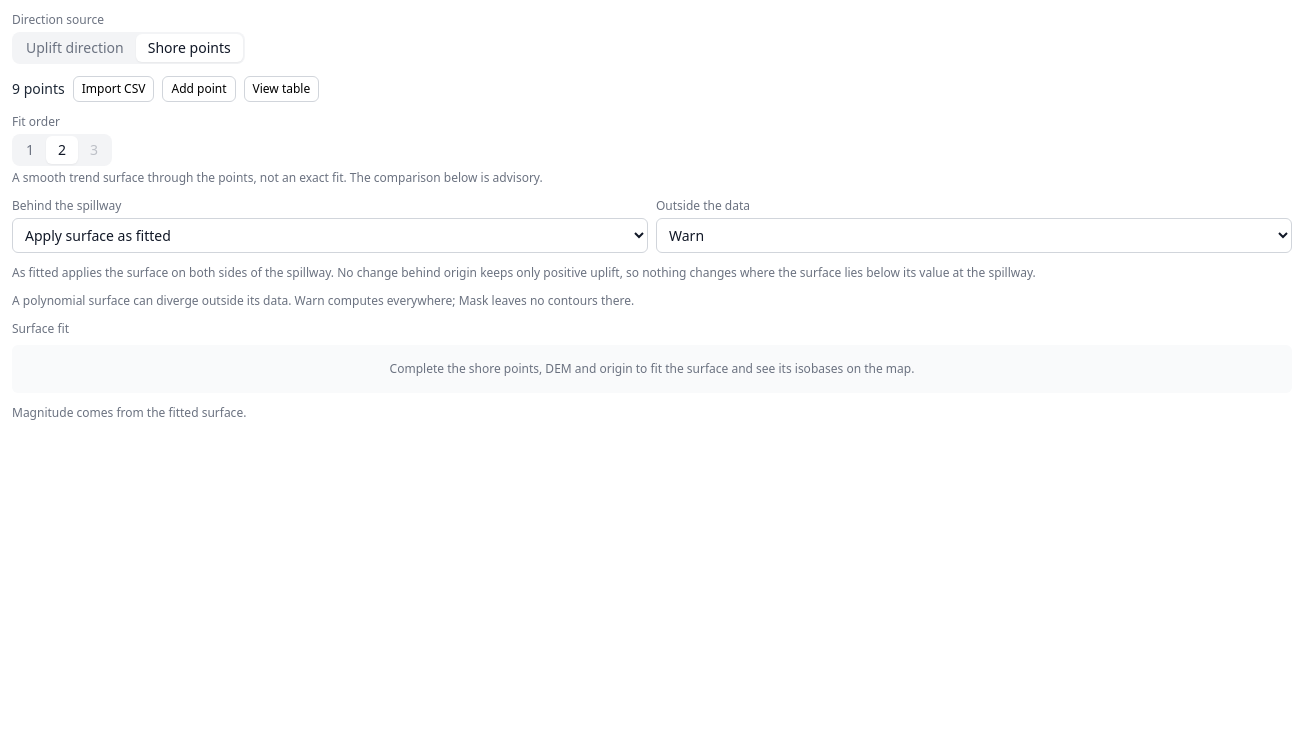
Scenario: the points table › marks an invalid number and can add a blank point
Click the button "View table". click: (281,89)
box: [244,76,319,102]
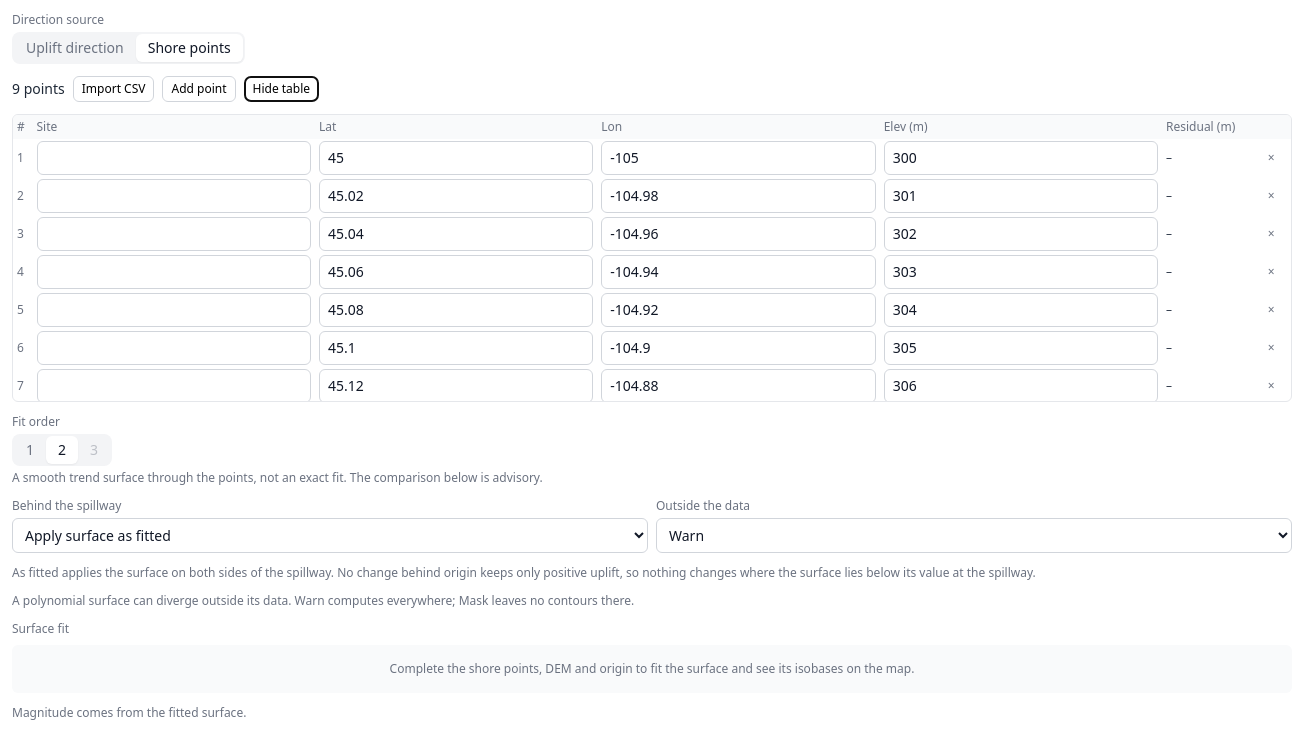
Replace the text in the field named "Point 1 latitude" with "abc". click: (456,158)
box: [319,141,593,175]
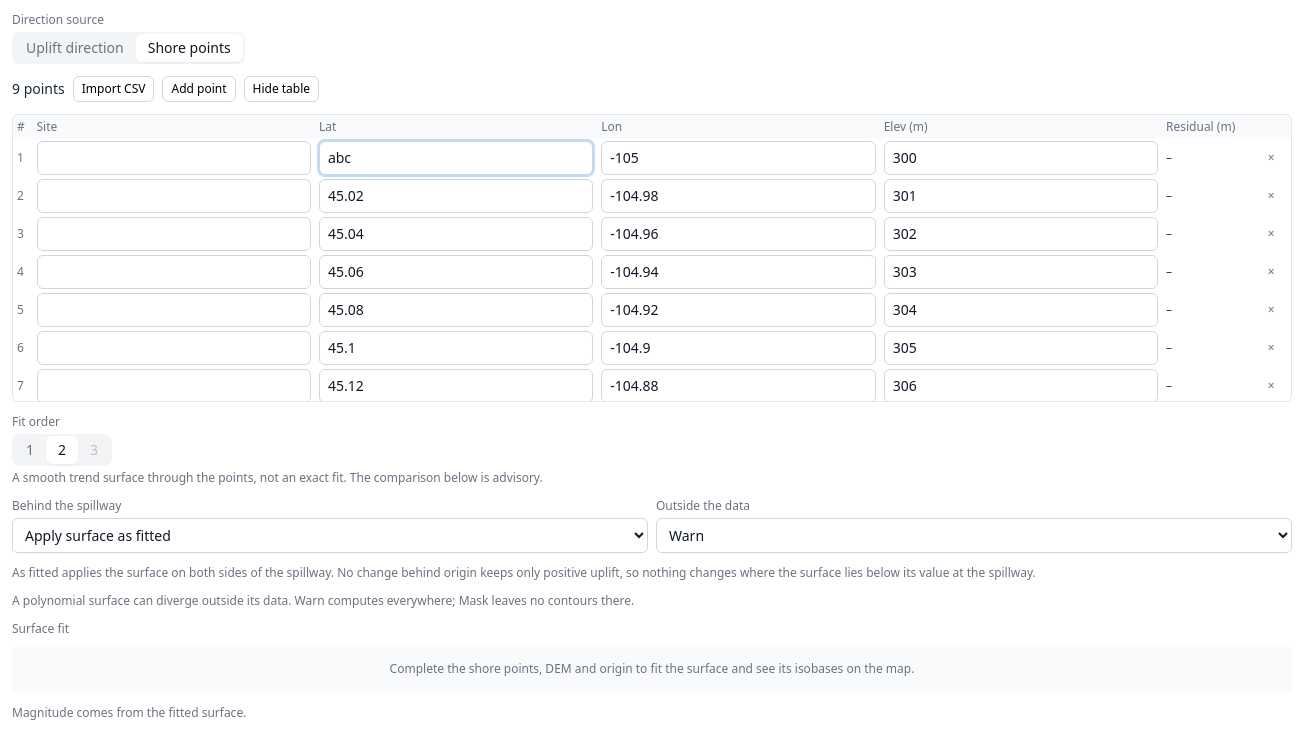
Expected: the field named "Point 1 latitude" is marked as invalid, [319,141,593,175]
Click the button "Add point". click: (199,89)
box: [162,76,236,102]
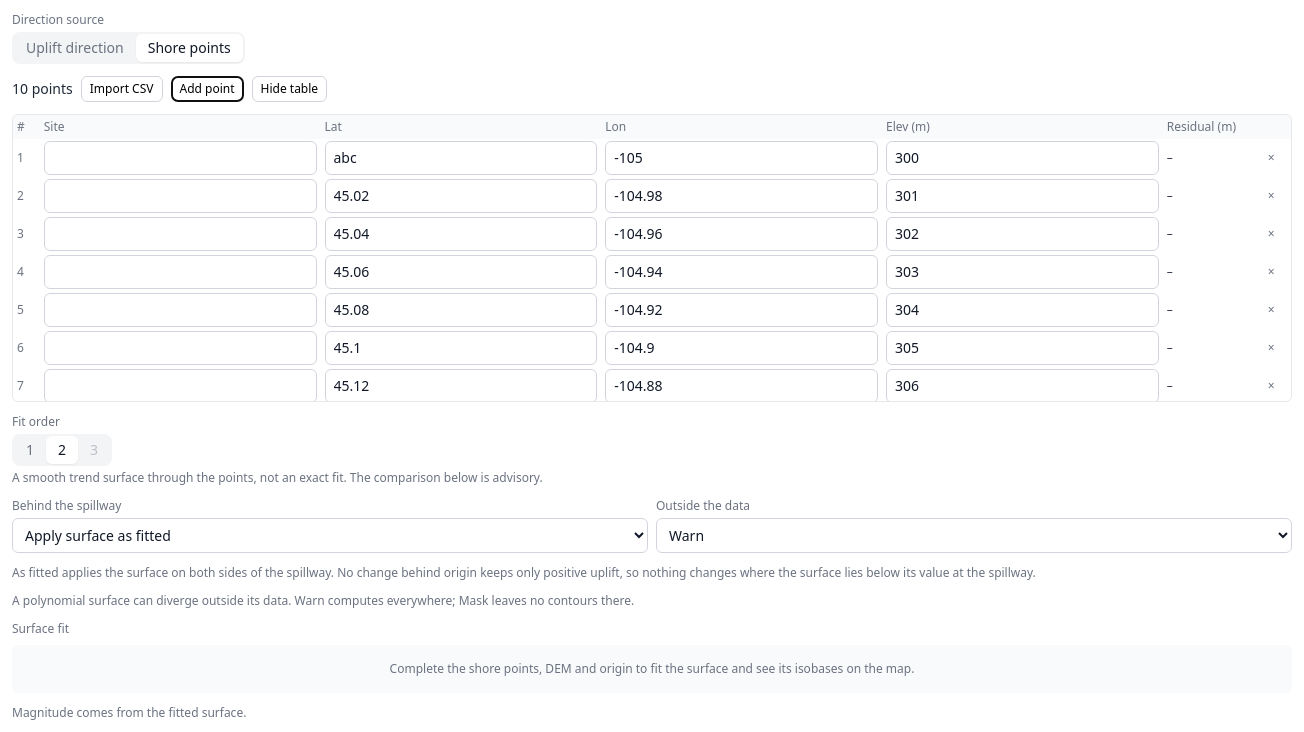
Expected: the text "10 points" is shown, [12,79,73,99]
